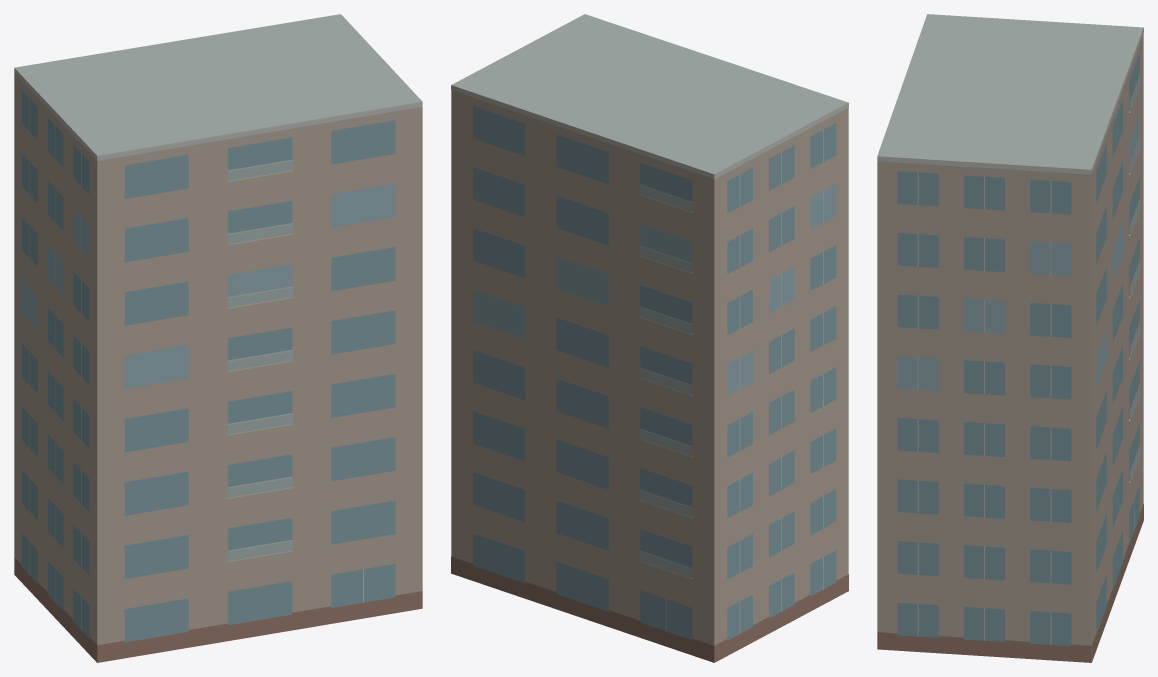
The model's file is survey-upis-32508014.glb.
3 renders of one model, left to right at view 1: azimuth 30°, elevation 25°; view 2: azimuth 150°, elevation 25°; view 3: azimuth 270°, elevation 25°, orthographic. The views are drawn at different scales.
Parts seen in each view (by area): view 1: survey-upis-32508014.tmp; view 2: survey-upis-32508014.tmp; view 3: survey-upis-32508014.tmp.
Boxes of the visible parts, bbox=[...] form: survey-upis-32508014.tmp: bbox=[14, 14, 422, 662]; survey-upis-32508014.tmp: bbox=[451, 14, 848, 662]; survey-upis-32508014.tmp: bbox=[877, 14, 1143, 662].
Size of the model in its own units: 16.54 by 24.4 by 11.97.
